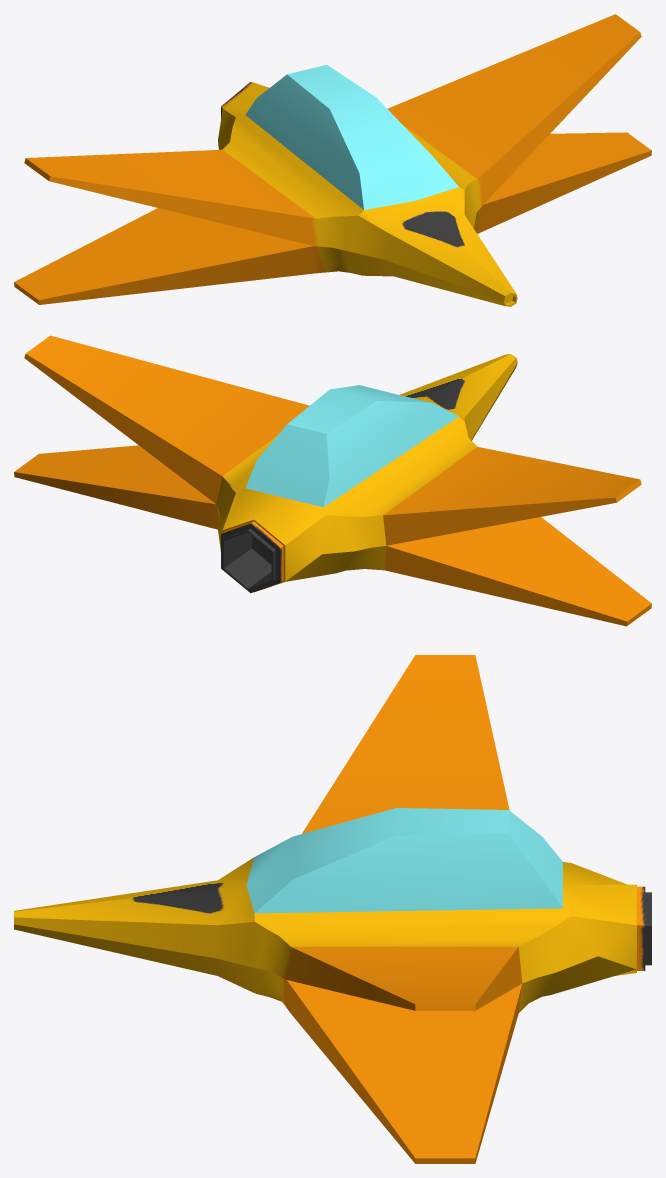
Rendered from Ship.glb.
3 views of the same model, one above another, from view 1: azimuth 30°, elevation 25°; view 2: azimuth 150°, elevation 25°; view 3: azimuth 270°, elevation 25° (orthographic). The views are drawn at different scales.
Parts seen in each view (by area): view 1: body; view 2: body; view 3: body.
Boxes of the visible parts, x1,y1,x2,y2 form: body: (14,14,651,306); body: (14,335,651,626); body: (14,655,651,1163).
Size of the model in its own units: 2.99 by 0.6173 by 2.22.
1 material, 1 textured.
